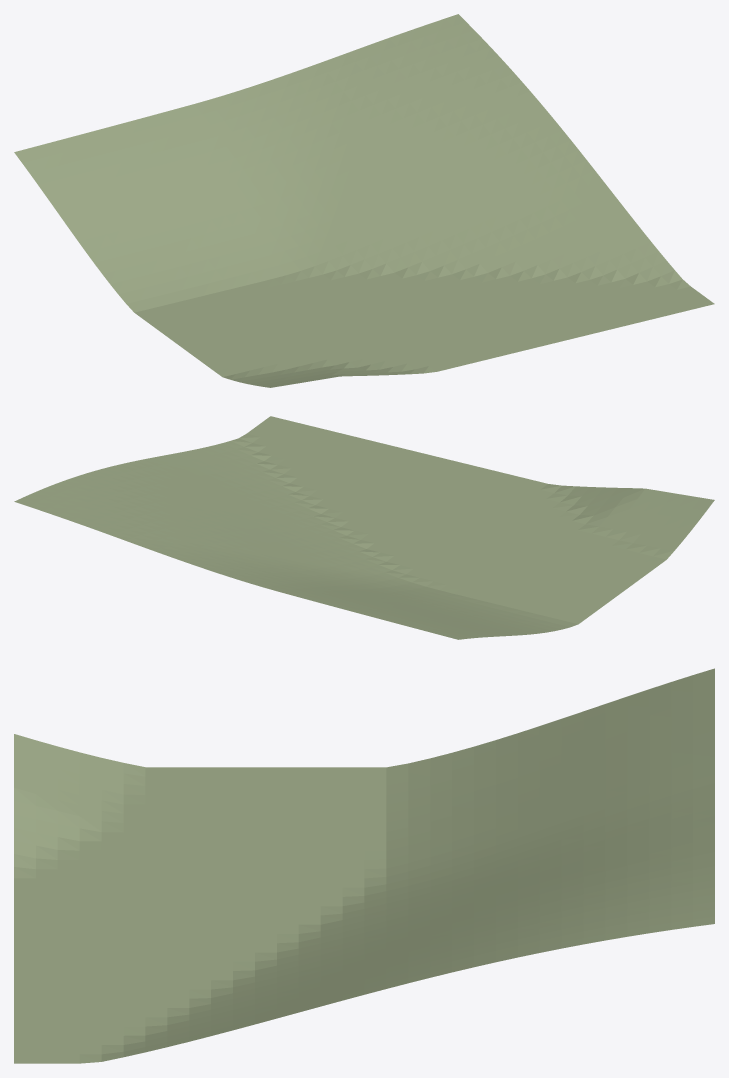
Rendered from expanse-4-5.glb.
The picture shows the model from 3 angles, top to bottom: view 1: azimuth 30°, elevation 25°; view 2: azimuth 150°, elevation 25°; view 3: azimuth 270°, elevation 25°; orthographic projection. The views are drawn at different scales.
Visible parts, largest first — view 1: expanse-4-5; view 2: expanse-4-5; view 3: expanse-4-5.
Part boxes in pixels (bbox=[...]): expanse-4-5: bbox=[14, 14, 714, 387]; expanse-4-5: bbox=[14, 416, 714, 639]; expanse-4-5: bbox=[14, 668, 714, 1063].
Size of the model in its own units: 256 by 56.26 by 256.
